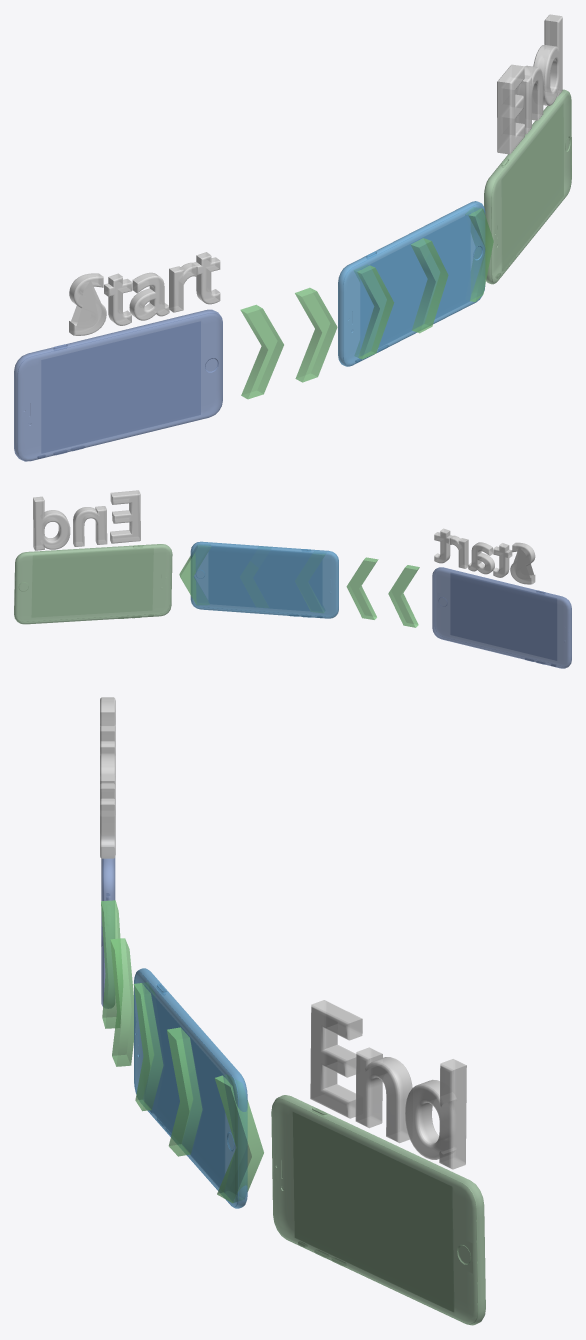
Rendered from ani02.fbx.
3 views of the same model, one above another, from view 1: azimuth 30°, elevation 25°; view 2: azimuth 150°, elevation 25°; view 3: azimuth 270°, elevation 25° (orthographic). The views are drawn at different scales.
Parts seen in each view (by area): view 1: pasted__polySurface38 (×3), pasted__pPlane1 (×3), pasted__polySurface50 (×3), typeMesh3, typeMesh2, pasted__pasted__pCube4, pasted__pasted__pCube6, pasted__pasted__pCube8, pasted__pasted__pCube7, pasted__pasted__pCube9; view 2: pasted__polySurface50 (×3), pasted__polySurface27 (×3), pasted__polySurface38 (×3), typeMesh2, typeMesh3, pasted__pasted__pCube4, pasted__pasted__pCube6, pasted__pasted__pCube9, pasted__pasted__pCube7, pasted__pasted__pCube8; view 3: pasted__polySurface38 (×2), pasted__pPlane1 (×2), pasted__polySurface50 (×3), typeMesh2, pasted__pasted__pCube9, pasted__pasted__pCube8, typeMesh3, pasted__pasted__pCube6, pasted__pasted__pCube7, pasted__pasted__pCube4.
Boxes of the visible parts, x1,y1,x2,y2 form: pasted__polySurface38 (×3): [18, 92, 571, 460]; pasted__pPlane1 (×3): [42, 104, 563, 453]; pasted__polySurface50 (×3): [14, 89, 570, 461]; typeMesh3: [69, 252, 220, 335]; typeMesh2: [497, 14, 562, 154]; pasted__pasted__pCube4: [240, 304, 283, 399]; pasted__pasted__pCube6: [295, 287, 337, 382]; pasted__pasted__pCube8: [411, 238, 448, 333]; pasted__pasted__pCube7: [354, 264, 394, 359]; pasted__pasted__pCube9: [465, 207, 493, 302]; pasted__polySurface50 (×3): [14, 541, 571, 668]; pasted__polySurface27 (×3): [32, 546, 556, 660]; pasted__polySurface38 (×3): [15, 542, 571, 666]; typeMesh2: [33, 490, 140, 550]; typeMesh3: [434, 528, 535, 584]; pasted__pasted__pCube4: [388, 565, 419, 627]; pasted__pasted__pCube6: [346, 557, 378, 619]; pasted__pasted__pCube9: [179, 545, 210, 605]; pasted__pasted__pCube7: [295, 554, 325, 612]; pasted__pasted__pCube8: [240, 562, 268, 607]; pasted__polySurface38 (×2): [134, 971, 477, 1324]; pasted__pPlane1 (×2): [144, 985, 453, 1312]; pasted__polySurface50 (×3): [103, 857, 485, 1325]; typeMesh2: [310, 1000, 466, 1169]; pasted__pasted__pCube9: [214, 1074, 263, 1203]; pasted__pasted__pCube8: [167, 1027, 202, 1156]; typeMesh3: [100, 697, 115, 858]; pasted__pasted__pCube6: [110, 938, 133, 1066]; pasted__pasted__pCube7: [133, 982, 163, 1111]; pasted__pasted__pCube4: [101, 900, 122, 1028].
Bounding box in the file's own units: 7.68 × 2.01 × 2.76.
